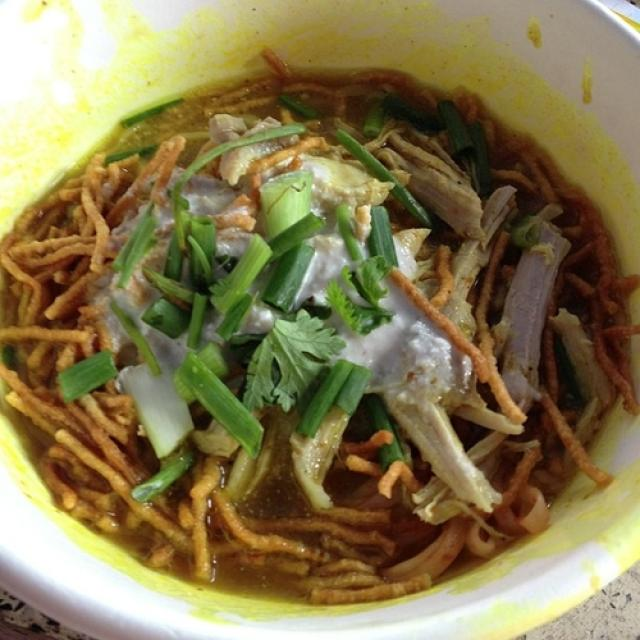面条主食: (11, 64, 626, 604)
